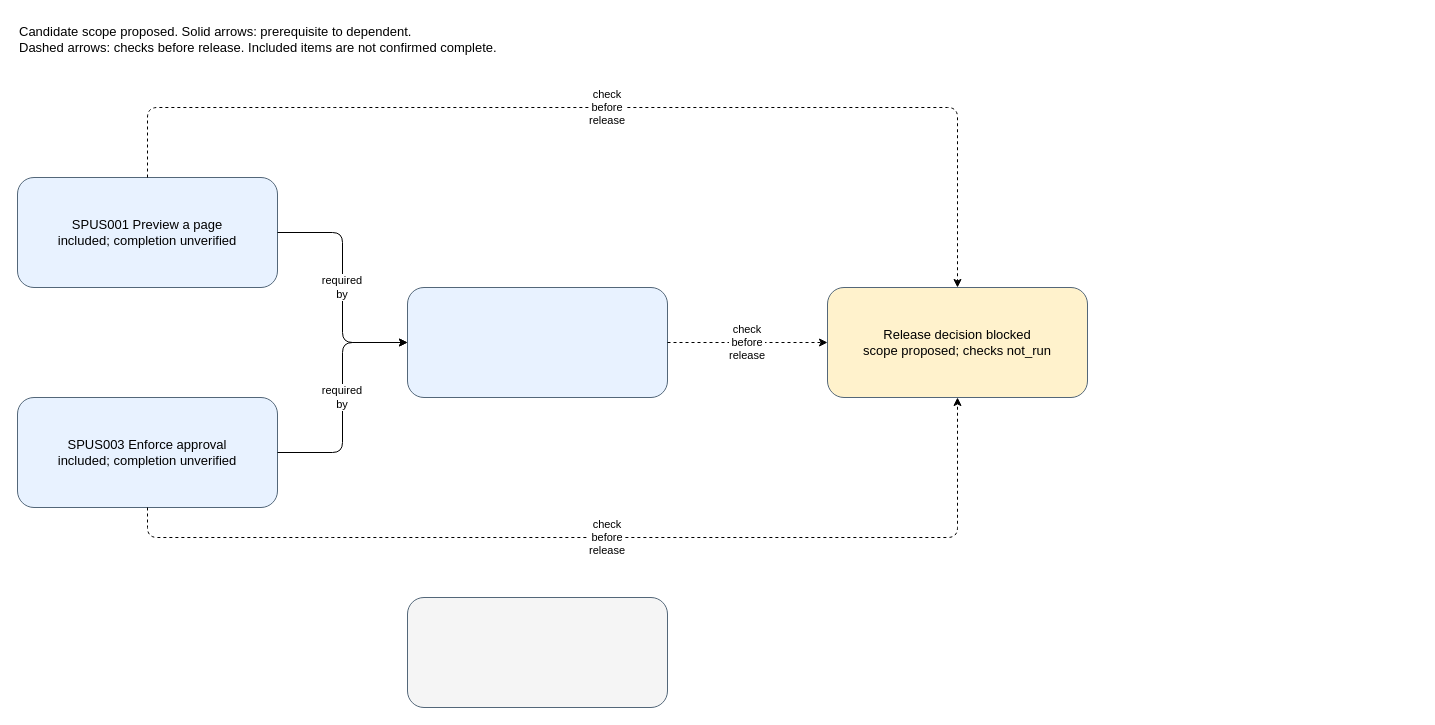
Some shapes in this 1435 by 725 pixel diagram are drawn without their labels. The shapes that lost their labels are listed below. From the top down, each one's centre as x and y in pixels, then its label:
At [537,342]: "SPUS002 Publish approved content included; AC1 decision pending".
At [537,652]: "SPUS004 Change brand colours deferred; no supplied outcome link".
